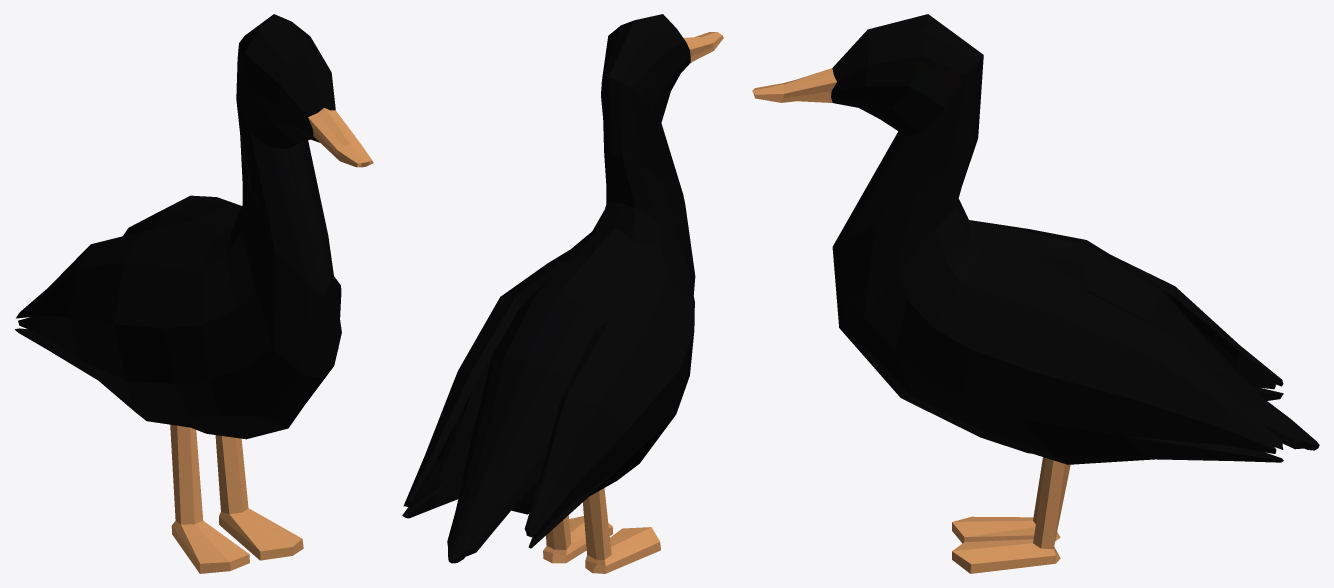
The model's file is duck.glb.
3 renders of one model, left to right at view 1: azimuth 30°, elevation 25°; view 2: azimuth 150°, elevation 25°; view 3: azimuth 270°, elevation 25°, orthographic. The views are drawn at different scales.
Visible parts, largest first — view 1: 03duckFinal; view 2: 03duckFinal; view 3: 03duckFinal.
Boxes of the visible parts, x1,y1,x2,y2 form: 03duckFinal: [15, 14, 373, 573]; 03duckFinal: [402, 14, 723, 573]; 03duckFinal: [752, 14, 1319, 573].
Bounding box in the file's own units: 0.2029 × 0.5174 × 0.4966.
Materials: 1 (1 with a texture image).
